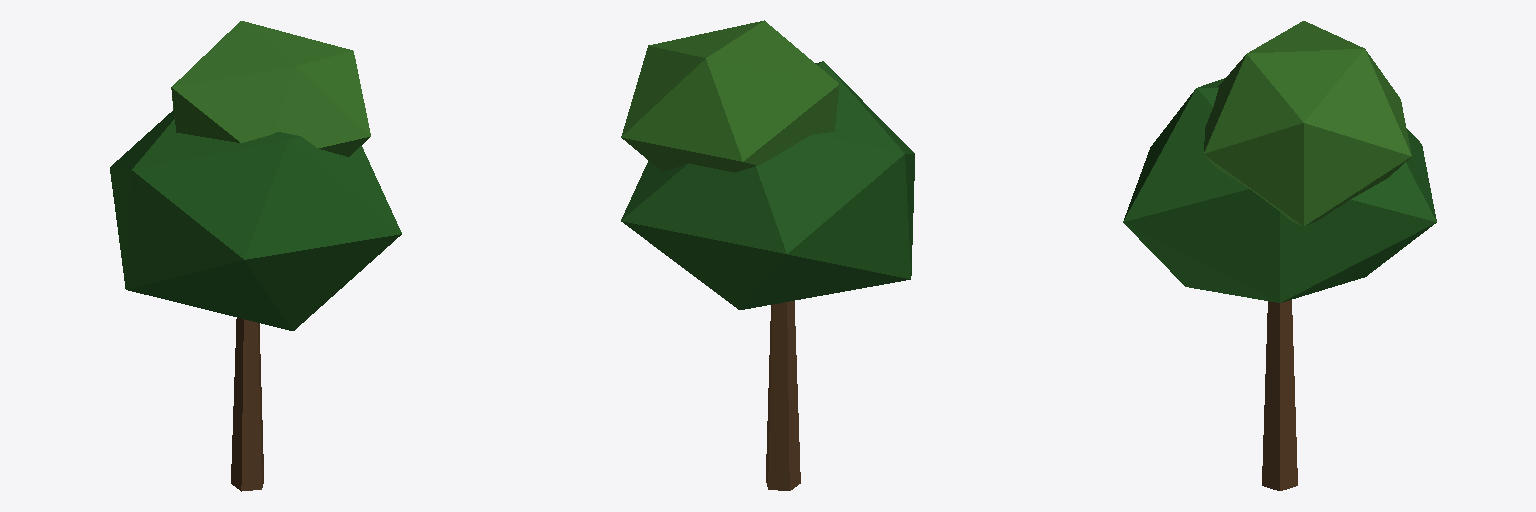
robot.urdf — tree:
<?xml version="1.0" encoding="utf-8"?>
<!-- Generated by tools/generate_assets.py -->
<robot name="tree">
  <link name="base_link">
    <inertial>
      <mass value="0" />
      <inertia ixx="0" ixy="0" ixz="0" iyy="0" iyz="0" izz="0" />
    </inertial>
    <visual name="part_0">
      <geometry><mesh filename="meshes/tree_v0.obj" /></geometry>
      <material name="tree_0"><color rgba="0.4 0.29 0.19 1" /></material>
    </visual>
    <visual name="part_1">
      <geometry><mesh filename="meshes/tree_v1.obj" /></geometry>
      <material name="tree_1"><color rgba="0.18 0.38 0.17 1" /></material>
    </visual>
    <visual name="part_2">
      <geometry><mesh filename="meshes/tree_v2.obj" /></geometry>
      <material name="tree_2"><color rgba="0.26 0.47 0.2 1" /></material>
    </visual>
    <collision name="hull_0">
      <geometry><mesh filename="meshes/tree_c0.obj" /></geometry>
    </collision>
    <collision name="hull_1">
      <geometry><mesh filename="meshes/tree_c1.obj" /></geometry>
    </collision>
    <collision name="hull_2">
      <geometry><mesh filename="meshes/tree_c2.obj" /></geometry>
    </collision>
  </link>
</robot>

--- What the picture shows (computed from the rendered views, not written in the file) ---
3 views of the same robot in one strip: view 1: azimuth 30°, elevation 25°; view 2: azimuth 150°, elevation 25°; view 3: azimuth 270°, elevation 25° (orthographic).
Model tree with 1 links and 0 joints (none), rooted at base_link, posed all joints at 0.
Visible links, largest first — view 1: base_link; view 2: base_link; view 3: base_link.
Link boxes in pixels (box(x1,y1,x2,y2)): base_link: box(110, 21, 401, 491); base_link: box(621, 20, 914, 490); base_link: box(1123, 21, 1436, 490).
Size in the robot's own frame: 3.84 by 3.96 by 6.28 metres.
3 mesh visuals loaded from 3 distinct referenced files (3 OBJ).
